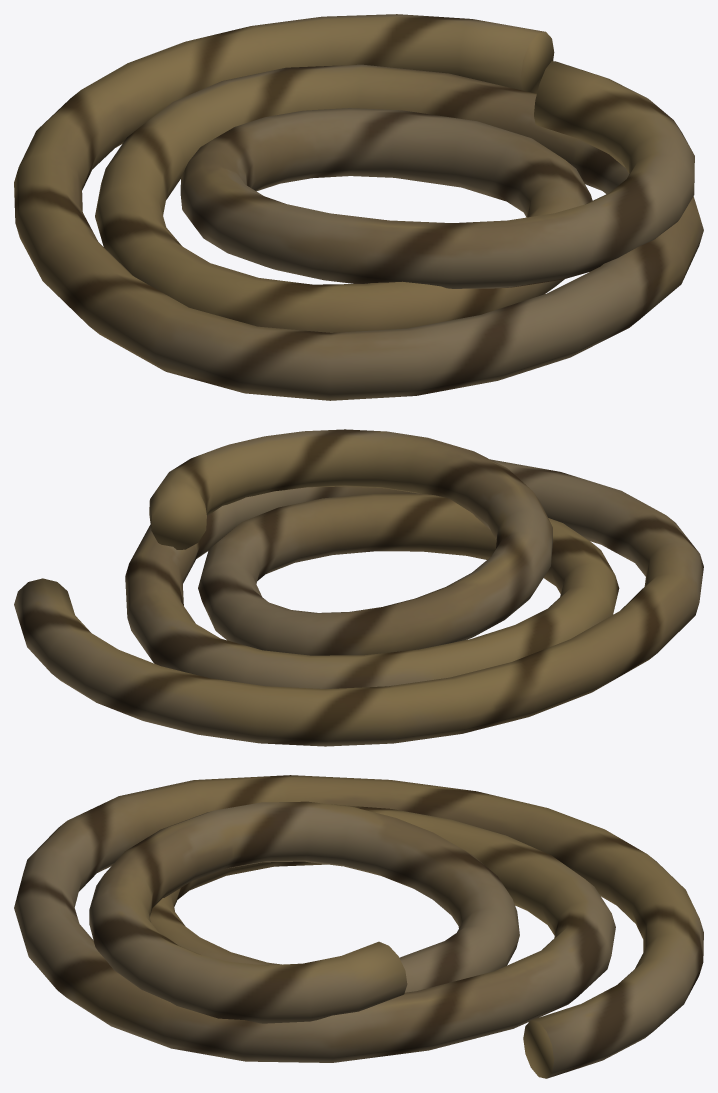
Rendered from rope_1.glb.
The picture shows the model from 3 angles, top to bottom: view 1: azimuth 30°, elevation 25°; view 2: azimuth 150°, elevation 25°; view 3: azimuth 270°, elevation 25°; orthographic projection. The views are drawn at different scales.
Visible parts, largest first — view 1: Rope_1; view 2: Rope_1; view 3: Rope_1.
Boxes of the visible parts, left/top/right/bottom form: Rope_1: left=14, top=14, right=703, bottom=400; Rope_1: left=14, top=429, right=703, bottom=746; Rope_1: left=14, top=775, right=703, bottom=1078.
Bounding box in the file's own units: 0.5574 × 0.0979 × 0.6063.
1 material, 1 textured.
